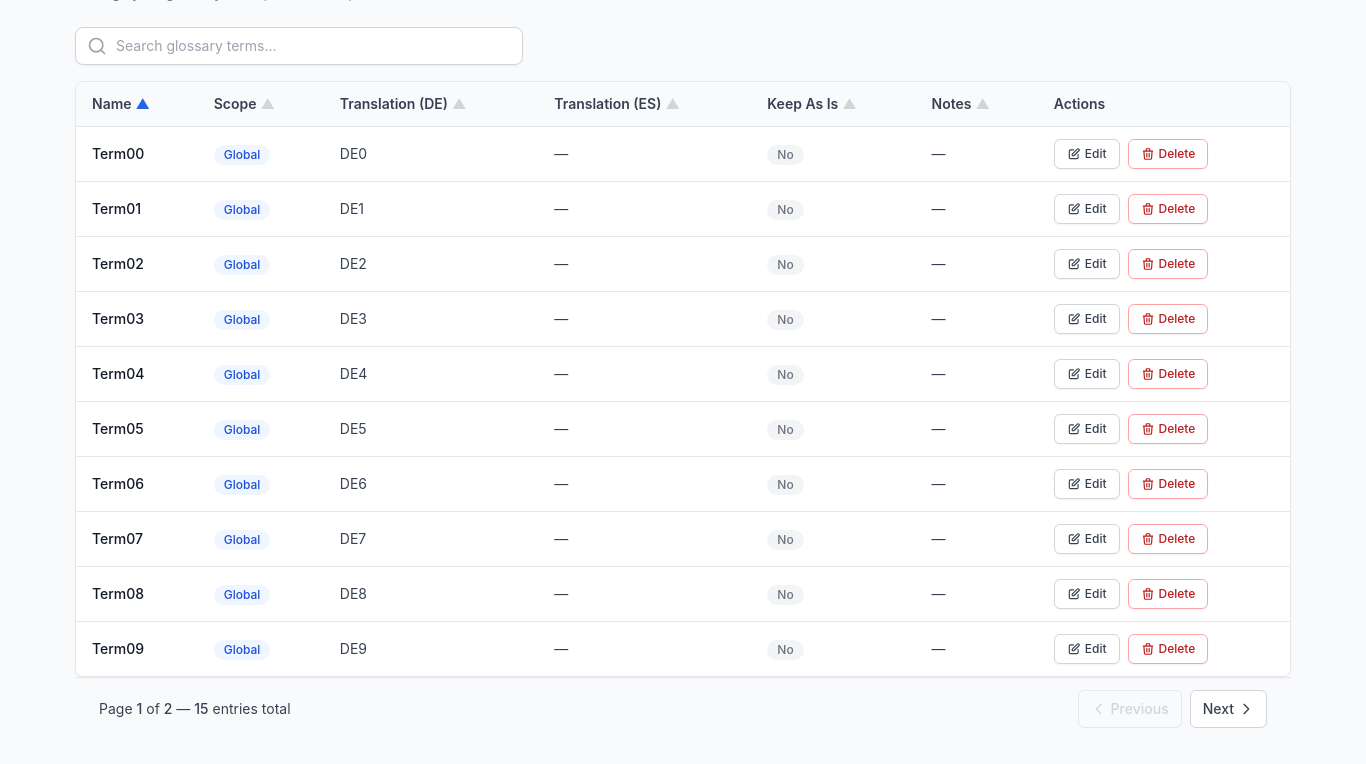
Test case: App › pagination › navigates to the next page
(page scrolled)
Expected: the text "Term00" is shown, top-left (76, 126), bottom-right (198, 182)
What coordinates should you click on to do the following:
click the button with aria-label "next page"
I would click on:
 (1228, 709)
Its box is top-left (1190, 690), bottom-right (1267, 728).
(page scrolled)
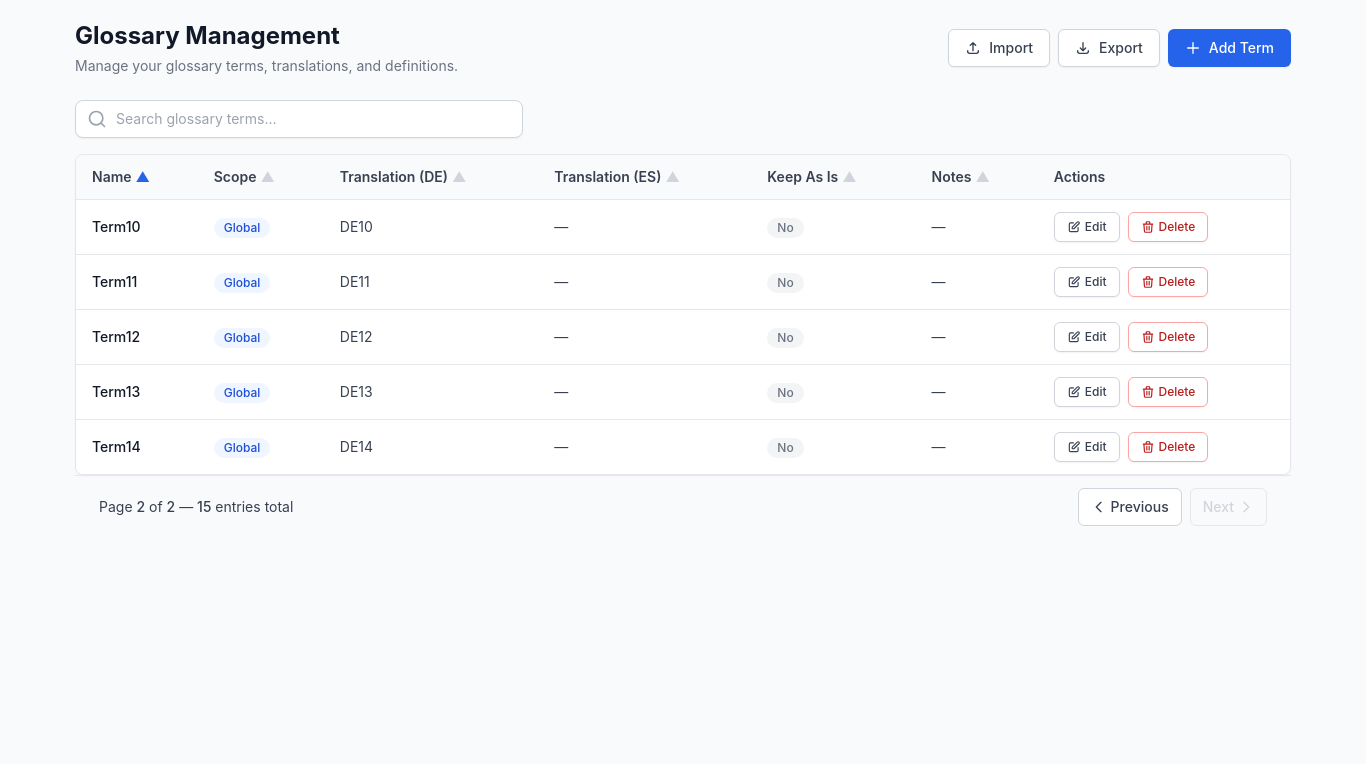
Now the text "Term10" is shown, box top-left (76, 200), bottom-right (198, 254)
Now the text "Term00" is gone
